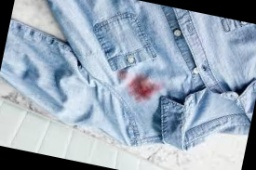wine: (112, 67, 164, 108)
